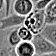cell: (6, 41, 23, 56), (41, 24, 51, 43), (30, 24, 40, 42), (11, 6, 23, 19), (32, 5, 44, 17), (39, 46, 53, 56), (25, 44, 36, 56), (3, 26, 14, 37), (18, 24, 27, 35), (1, 4, 8, 17)
